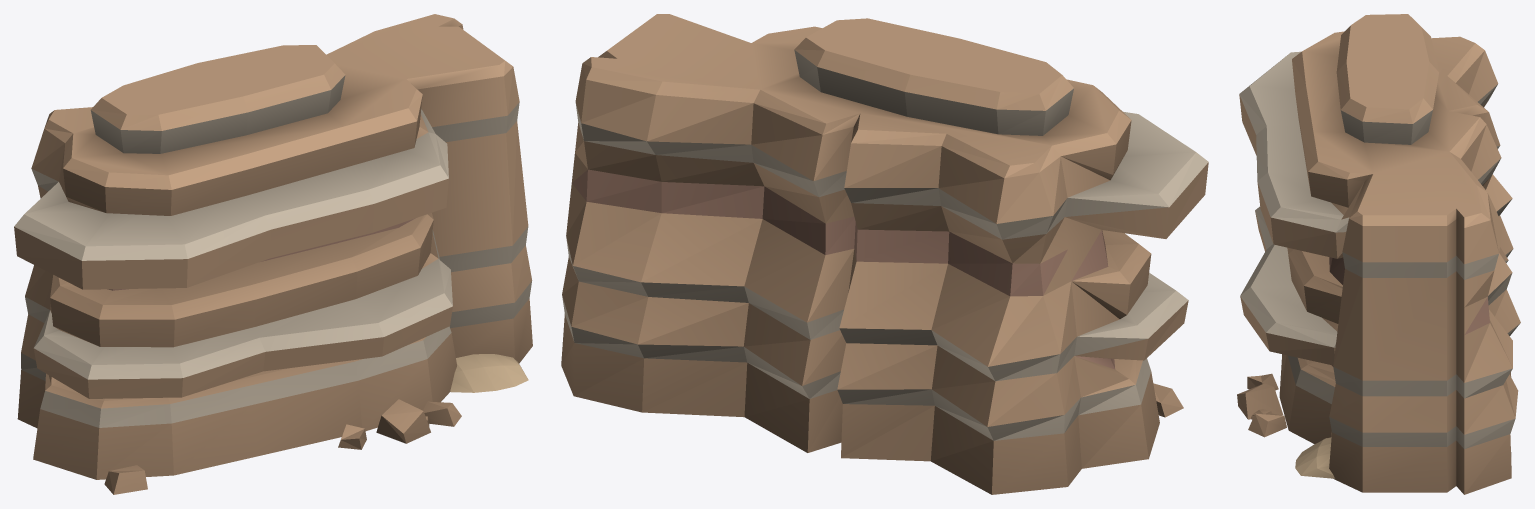
The model's file is outcrop.glb.
3 views of the same model, side by side, from view 1: azimuth 30°, elevation 25°; view 2: azimuth 150°, elevation 25°; view 3: azimuth 270°, elevation 25° (orthographic). The views are drawn at different scales.
Parts seen in each view (by area): view 1: outcrop.001; view 2: outcrop.001; view 3: outcrop.001.
Boxes of the visible parts, x1,y1,x2,y2 form: outcrop.001: (14,14,532,494); outcrop.001: (561,14,1208,494); outcrop.001: (1237,14,1520,494).
Bounding box in the file's own units: 5.74 × 3.5 × 3.02.
